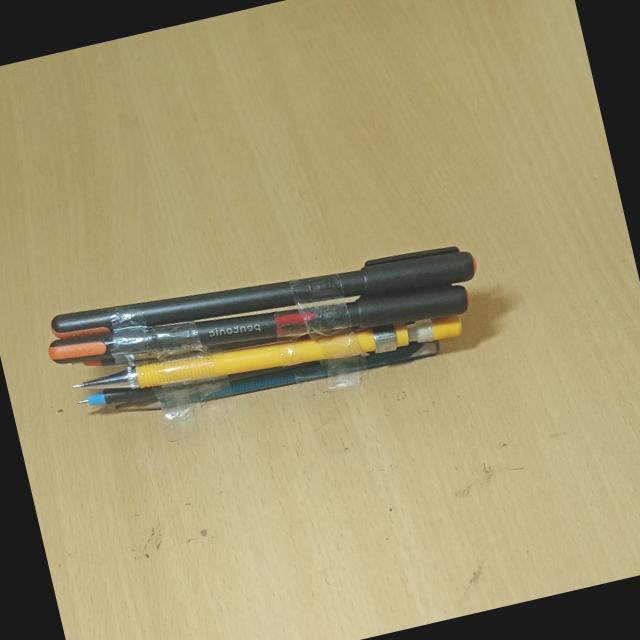pen: (28, 198, 499, 362), (41, 260, 458, 378)
